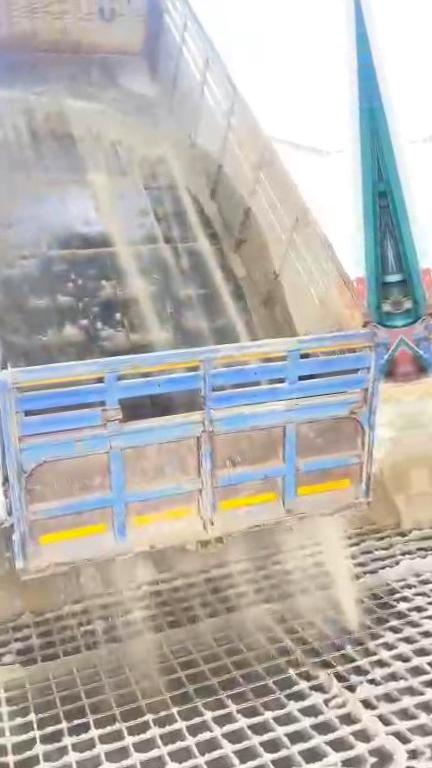sand: (17, 384, 432, 659), (0, 90, 251, 347), (0, 554, 432, 684), (310, 666, 406, 756), (0, 510, 33, 621)
